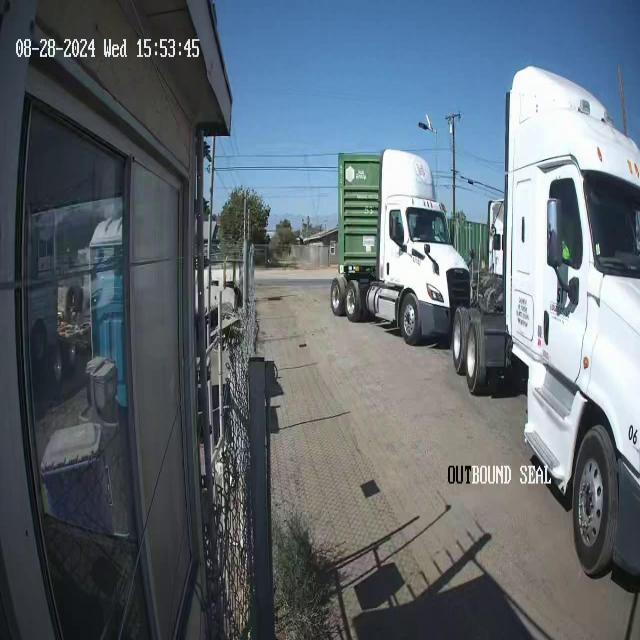TRUCK_IN: (452, 59, 636, 593), (330, 148, 472, 348)
